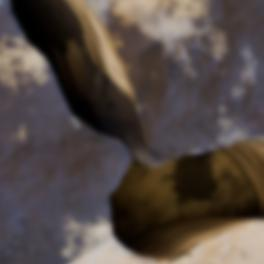broken_brick: (0, 0, 129, 263), (89, 0, 263, 153)
crack: (1, 0, 263, 263)
